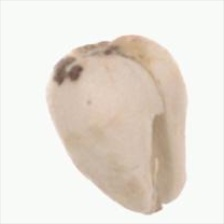L3: (139, 193, 181, 215)
L4: (46, 35, 187, 215)
